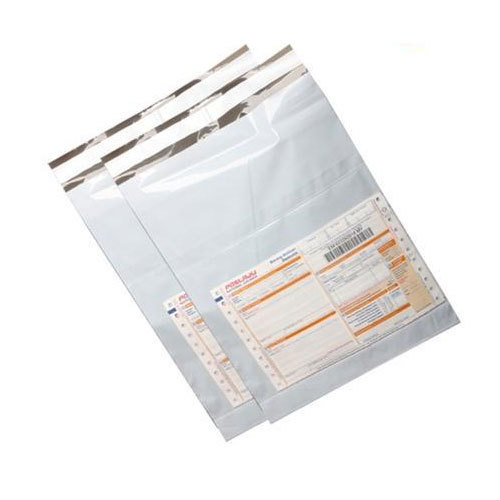Parcel: (63, 48, 458, 440)
